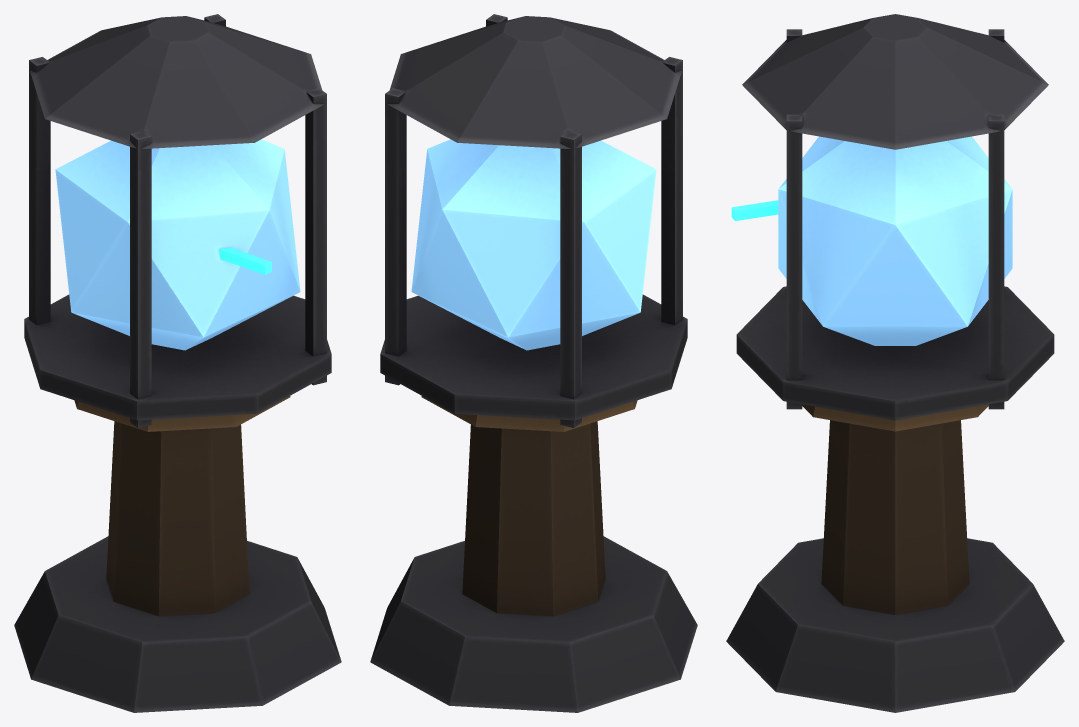
File: obj_sphere_water.glb
3 renders of one model, left to right at view 1: azimuth 30°, elevation 25°; view 2: azimuth 150°, elevation 25°; view 3: azimuth 270°, elevation 25°, orthographic.
Parts seen in each view (by area): view 1: obj_sphere_water; view 2: obj_sphere_water; view 3: obj_sphere_water.
Part boxes in pixels (x1,y1,x2,y2): obj_sphere_water: [14, 14, 341, 712]; obj_sphere_water: [370, 14, 697, 712]; obj_sphere_water: [726, 14, 1064, 712].
Size of the model in its own units: 0.64 by 1.28 by 0.64.
Materials: 1 (1 with a texture image).
